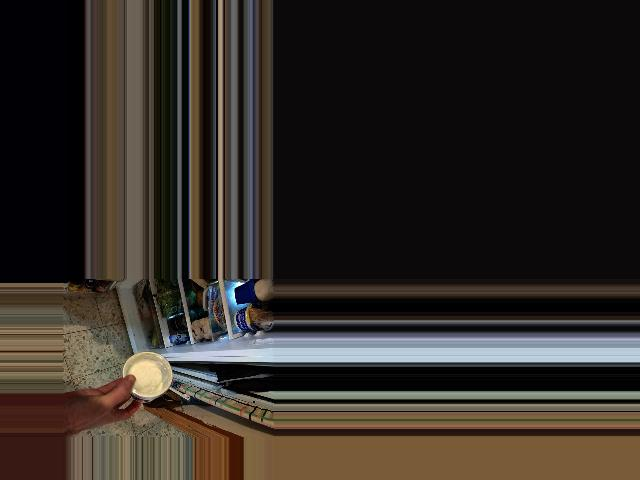cotage: (118, 356, 171, 405)
